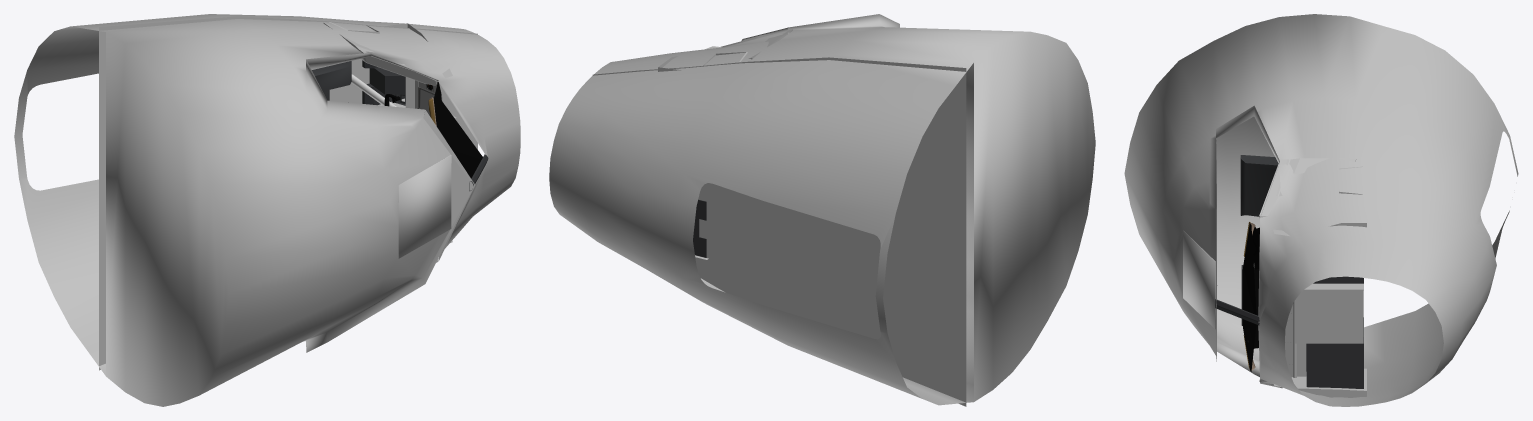
The model's file is b737-800-cockpit.glb.
3 renders of one model, left to right at view 1: azimuth 30°, elevation 25°; view 2: azimuth 150°, elevation 25°; view 3: azimuth 270°, elevation 25°, orthographic. The views are drawn at different scales.
Bounding box in the file's own units: 3.49 × 3.06 × 3.42.
Materials: 36 (21 with a texture image).
